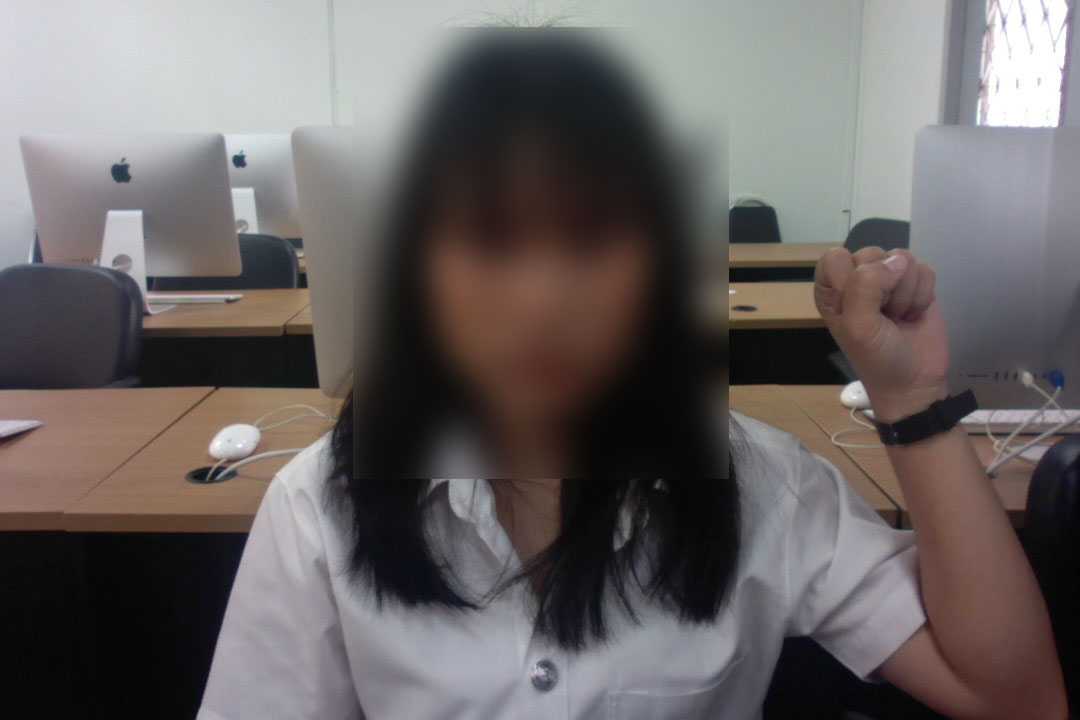sor: (808, 236, 958, 422)
